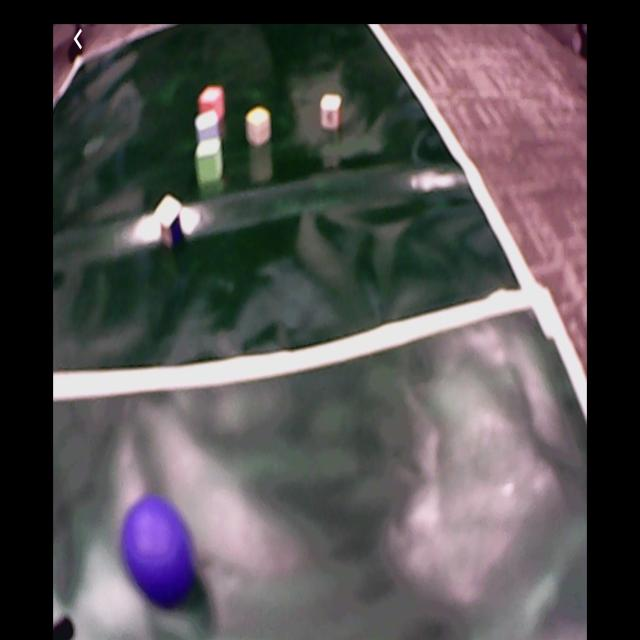ball: (125, 499, 190, 599)
